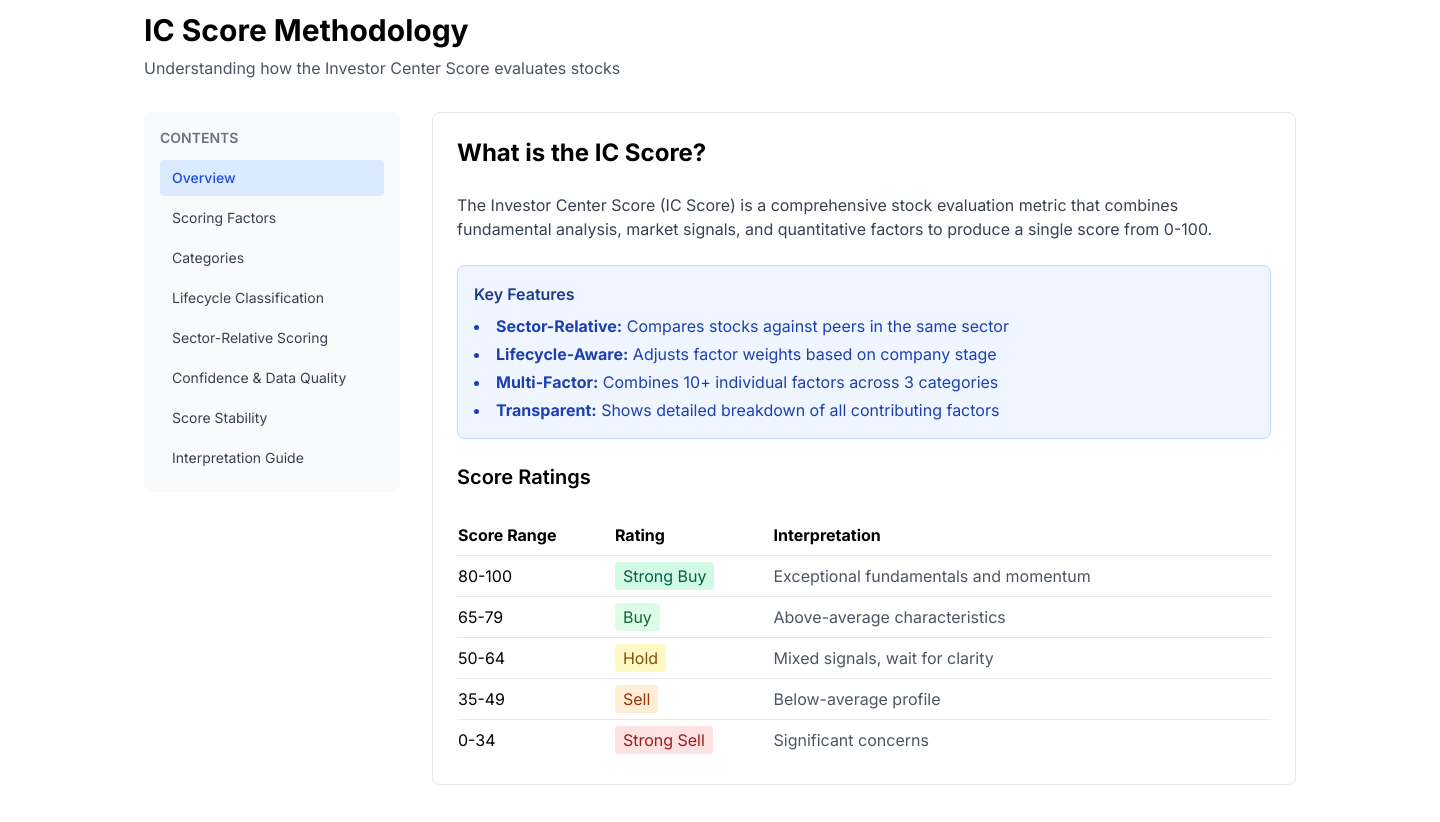
Scenario: ICScoreMethodology › switches to Sector-Relative Scoring section
Click the button "Sector-Relative Scoring" at (272, 338), box x1=160 y1=320 x2=384 y2=356
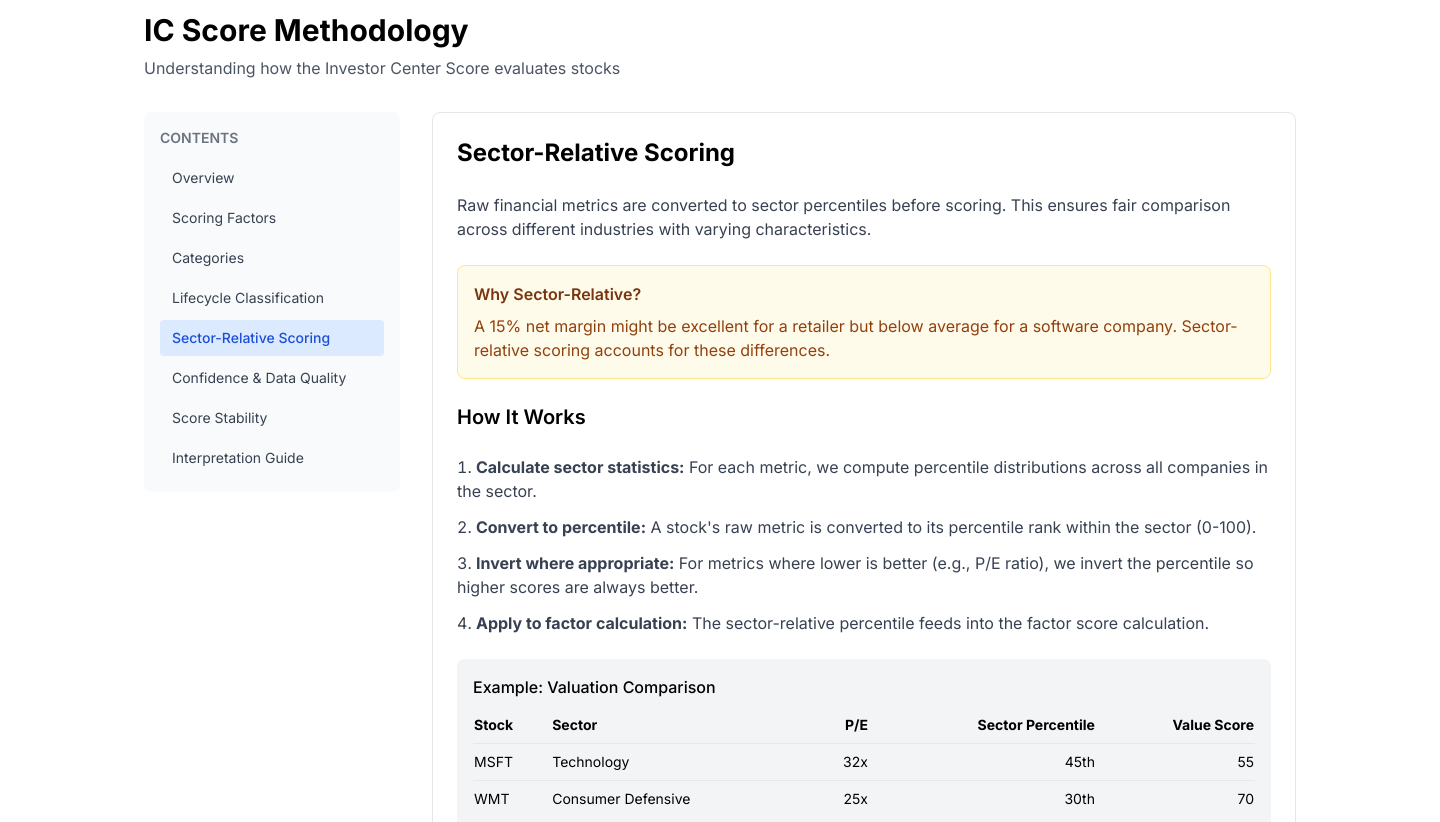
Now the heading "Sector-Relative Scoring" is shown, box x1=457 y1=138 x2=735 y2=167
Now the heading "Why Sector-Relative?" is shown, box x1=474 y1=284 x2=641 y2=304
Now the text "MSFT" is shown, box x1=473 y1=744 x2=551 y2=780
